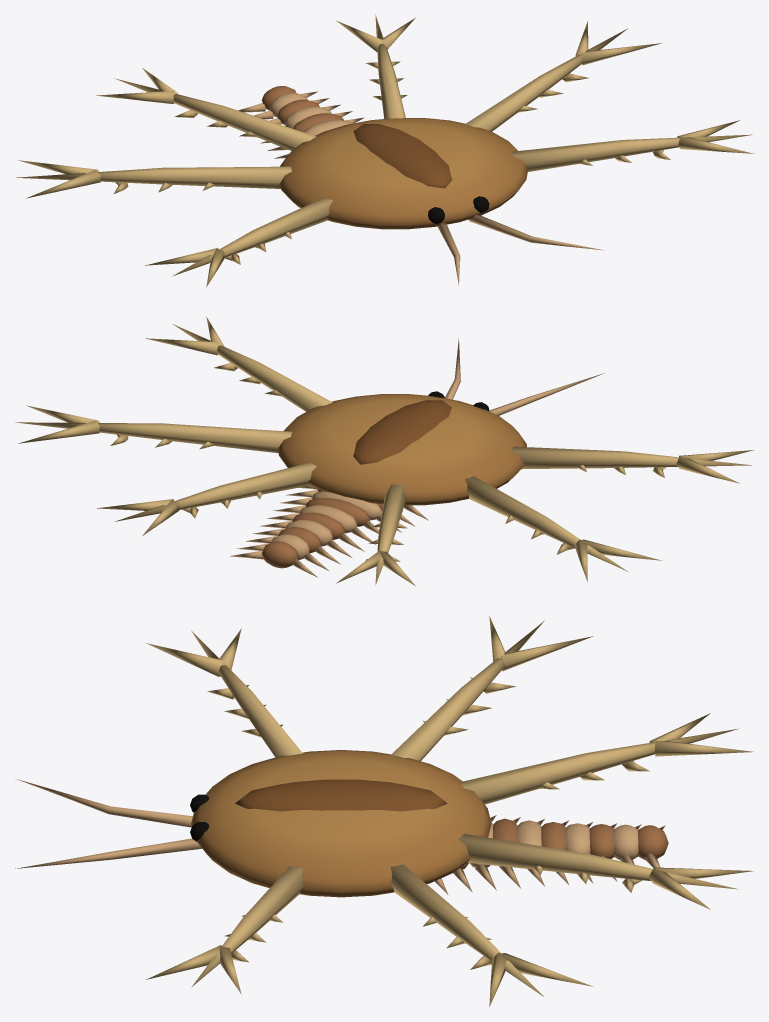
Rendered from FurcaMauritanica.fbx.
The picture shows the model from 3 angles, top to bottom: view 1: azimuth 30°, elevation 25°; view 2: azimuth 150°, elevation 25°; view 3: azimuth 270°, elevation 25°; orthographic projection. The views are drawn at different scales.
Parts seen in each view (by area): view 1: FurcaMauritanica; view 2: FurcaMauritanica; view 3: FurcaMauritanica.
Part boxes in pixels (left/top/right/bottom): FurcaMauritanica: left=16, top=14, right=753, bottom=287; FurcaMauritanica: left=15, top=316, right=753, bottom=586; FurcaMauritanica: left=15, top=616, right=753, bottom=1006.
Size of the model in its own units: 1.73 by 0.145 by 1.38.
